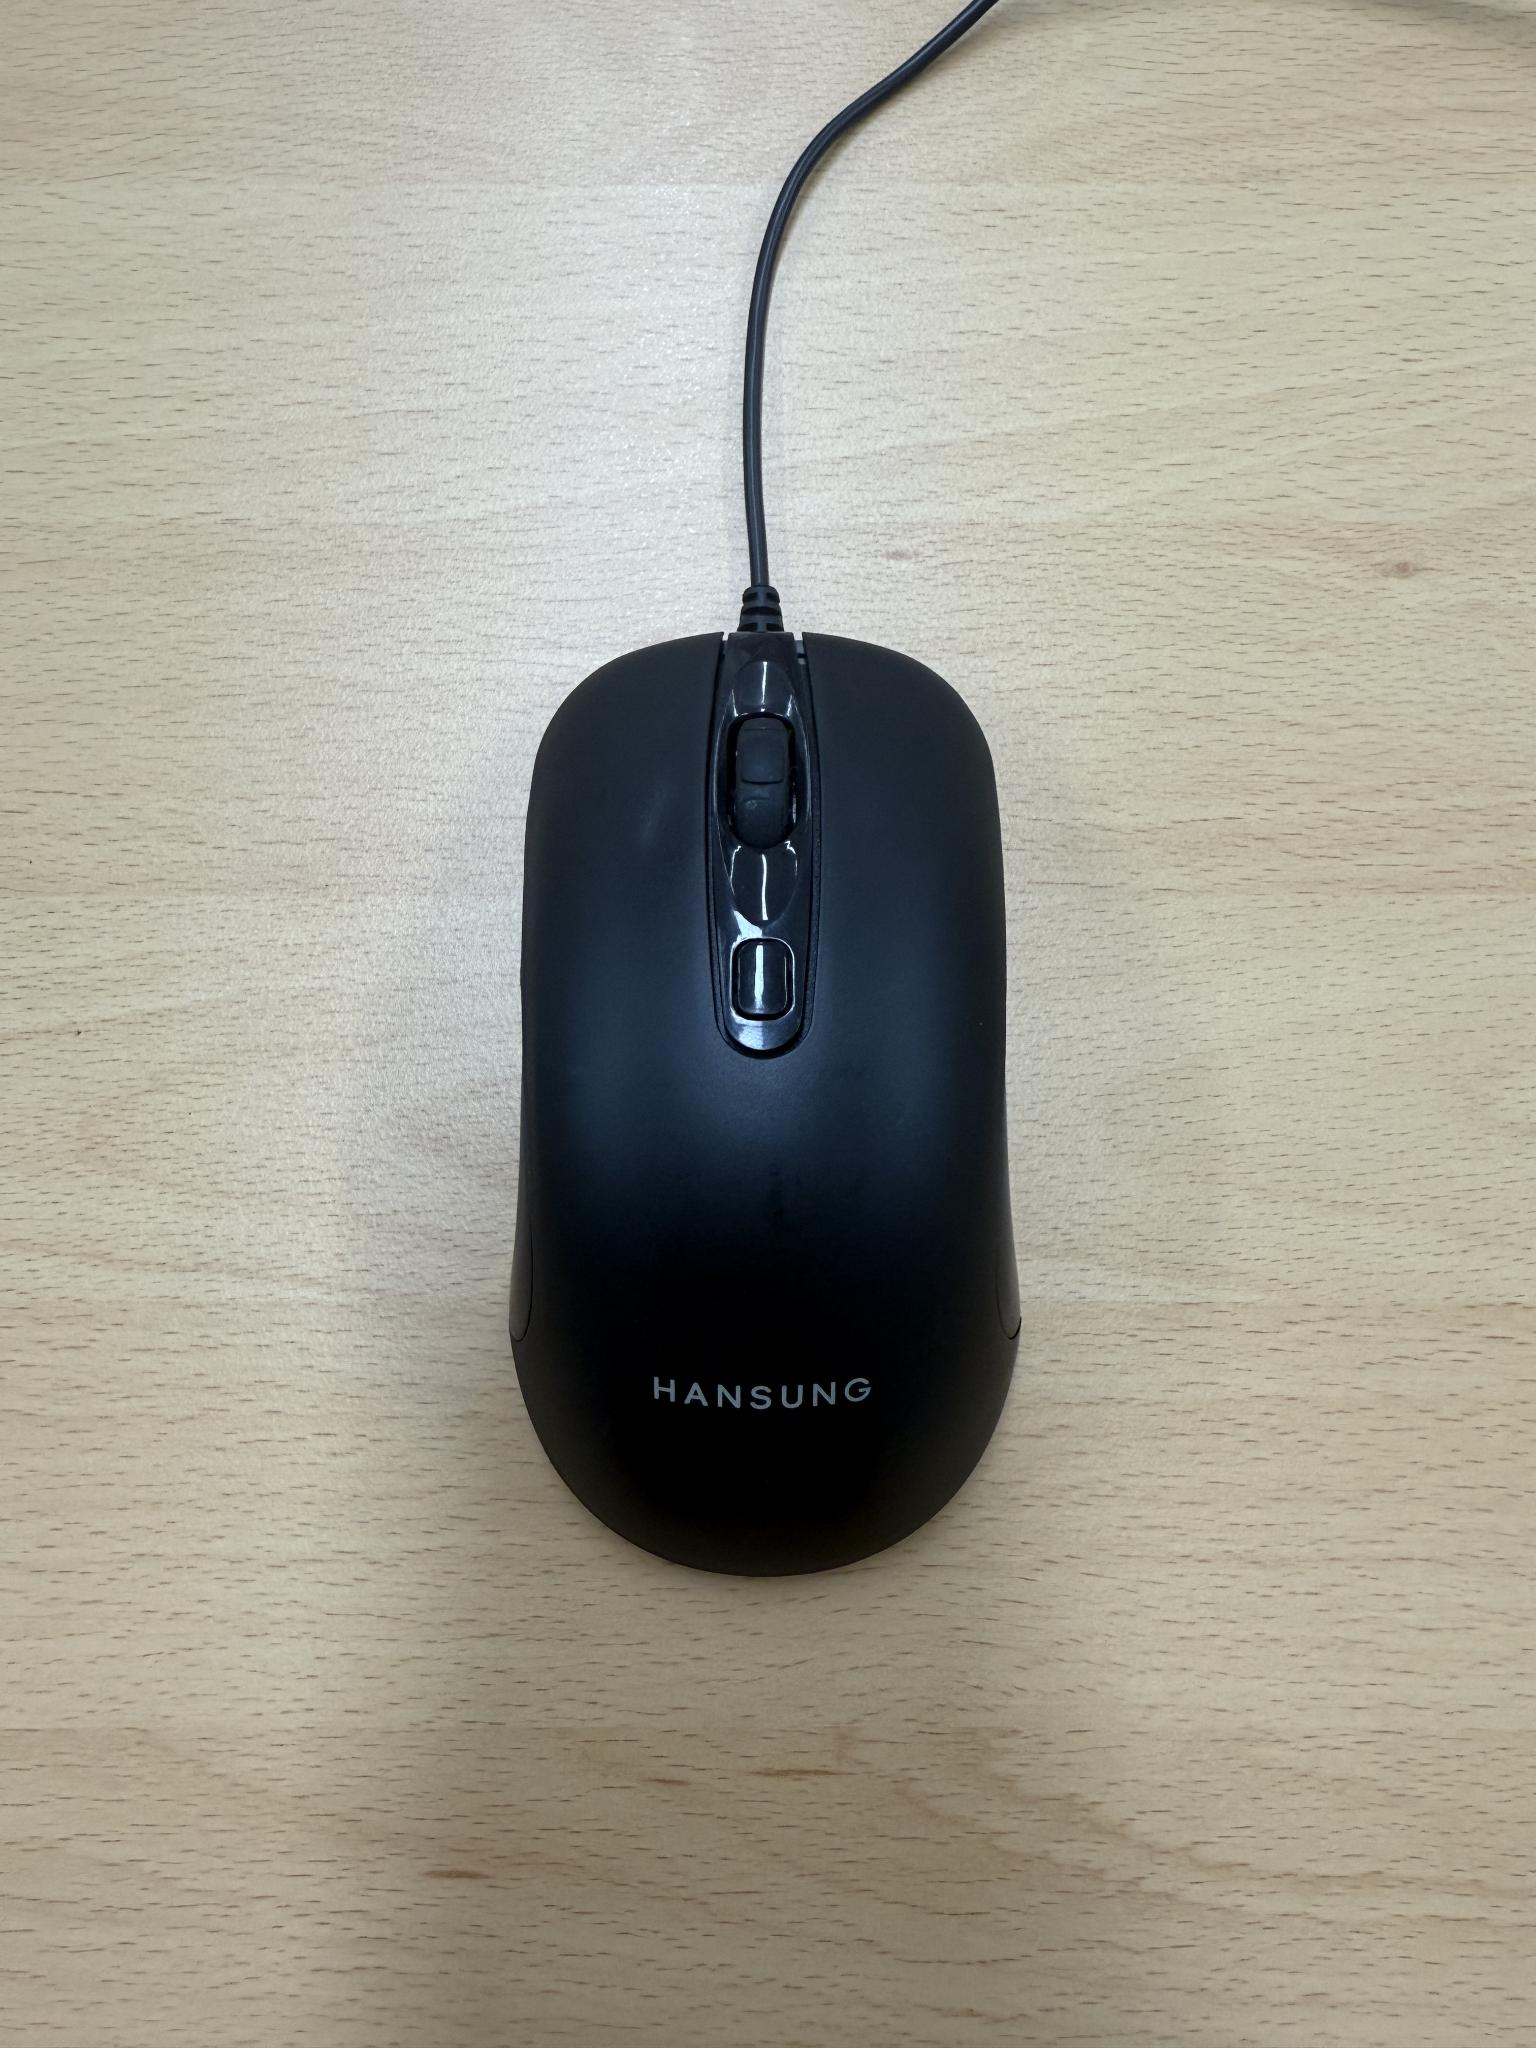front: (513, 619, 1018, 1582)
